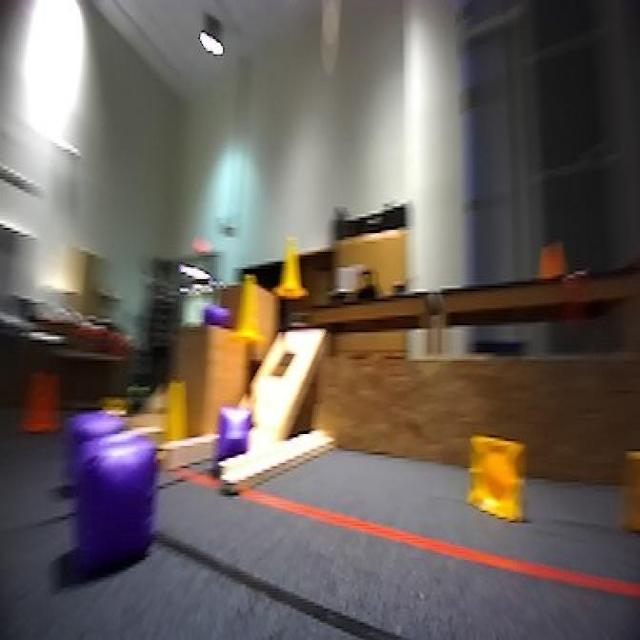frc_cone: (466, 424, 540, 536), (277, 227, 312, 300), (241, 291, 266, 346), (164, 373, 186, 434)
frc_cube: (84, 429, 170, 567), (189, 298, 241, 337), (218, 405, 257, 453)
